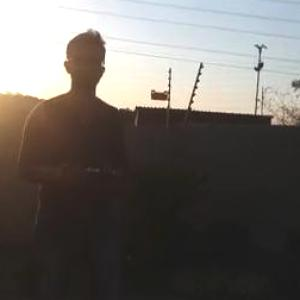follow: (12, 24, 134, 299)
